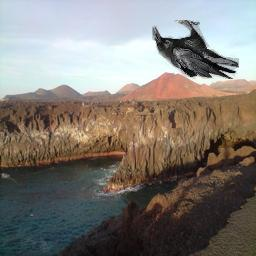Crow: (153, 21, 240, 80)
